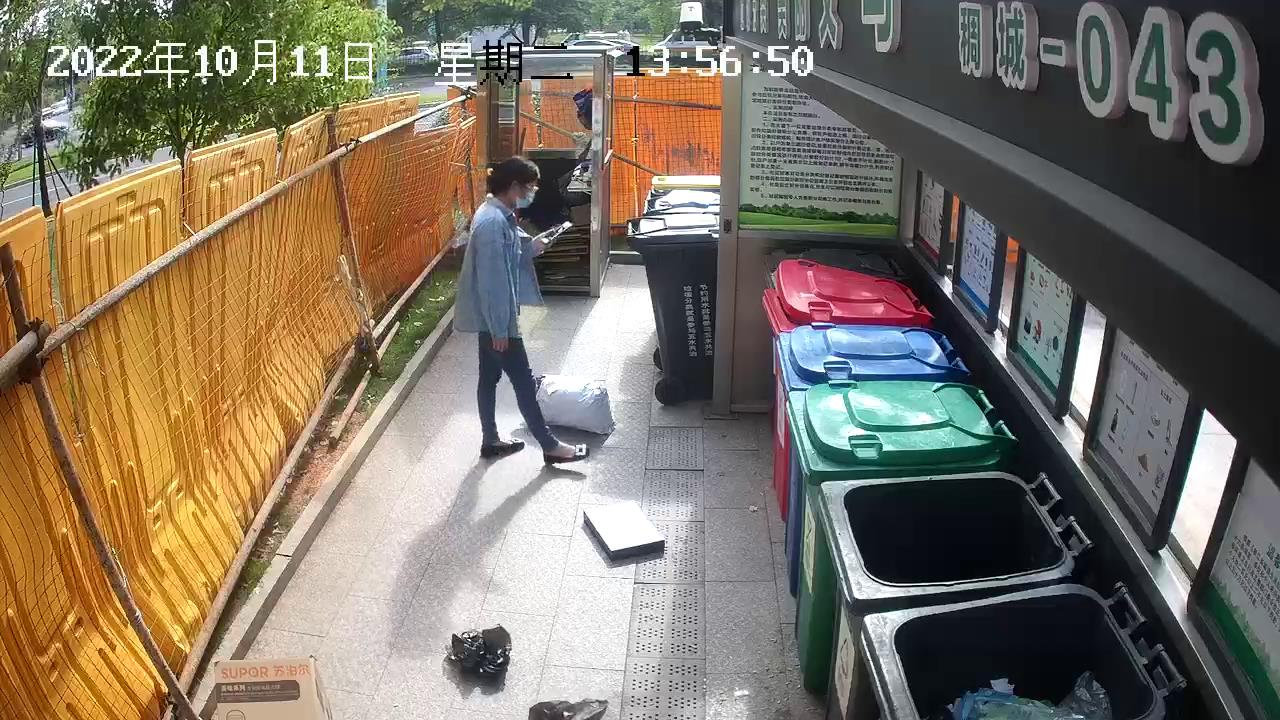garbage: (525, 368, 620, 440), (441, 619, 518, 687)
worker: (447, 153, 597, 470)
zhizhipin: (208, 650, 341, 720)
